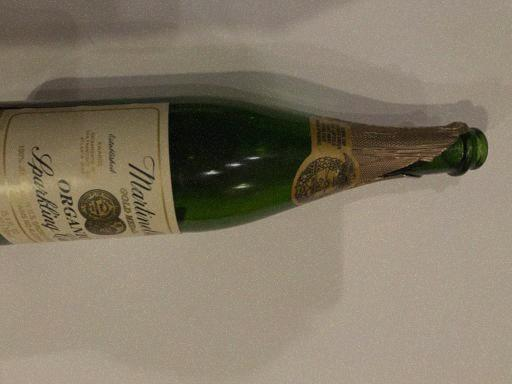glass: (0, 23, 501, 241)
